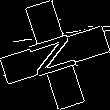N_E: (25, 28, 85, 82)
